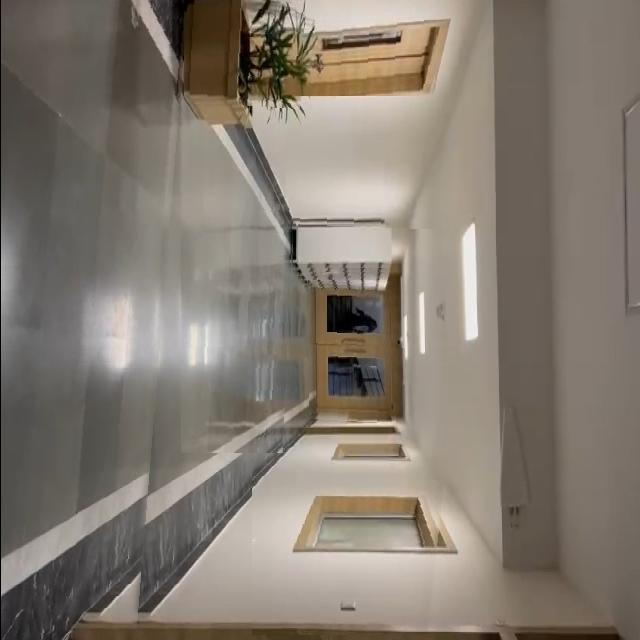door: (307, 280, 404, 424), (295, 16, 437, 102)
floor: (0, 0, 187, 640), (180, 198, 293, 453)
furniture: (183, 0, 304, 109)
wall: (251, 432, 448, 635), (284, 96, 454, 230)
